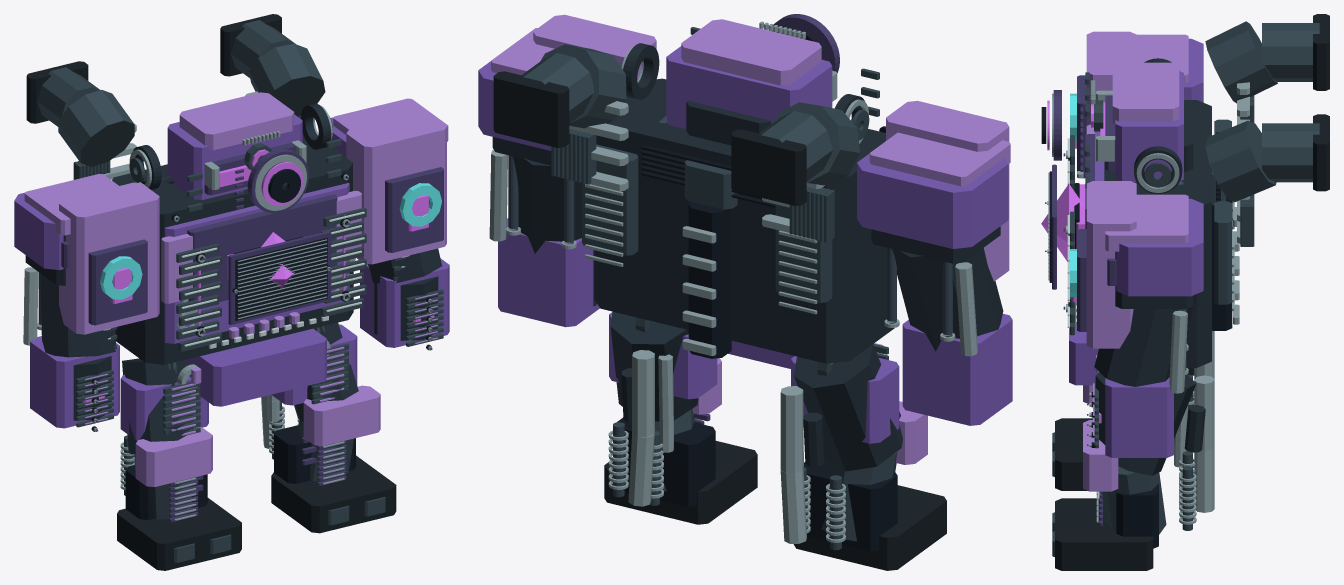
File: enemy_tank_4k.obj
The picture shows the model from 3 angles, left to right: view 1: azimuth 30°, elevation 25°; view 2: azimuth 150°, elevation 25°; view 3: azimuth 270°, elevation 25°; orthographic projection. The views are drawn at different scales.
Size of the model in its own units: 2.66 by 2.58 by 1.56.
